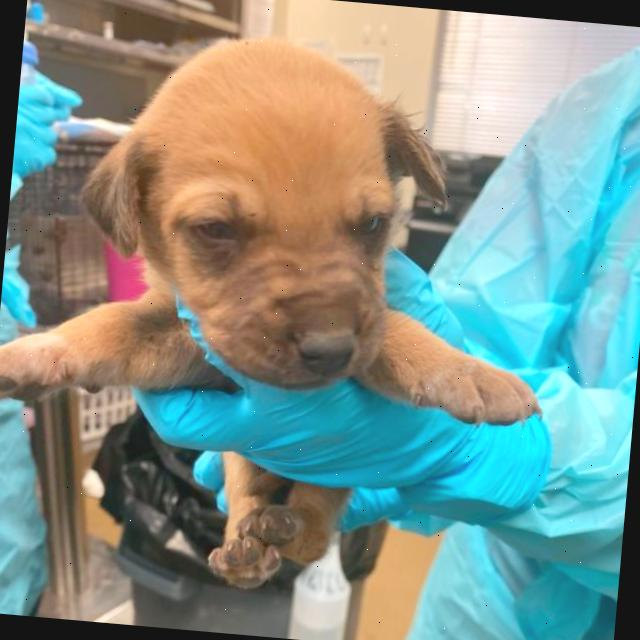corgi_dog: (38, 0, 481, 435)
